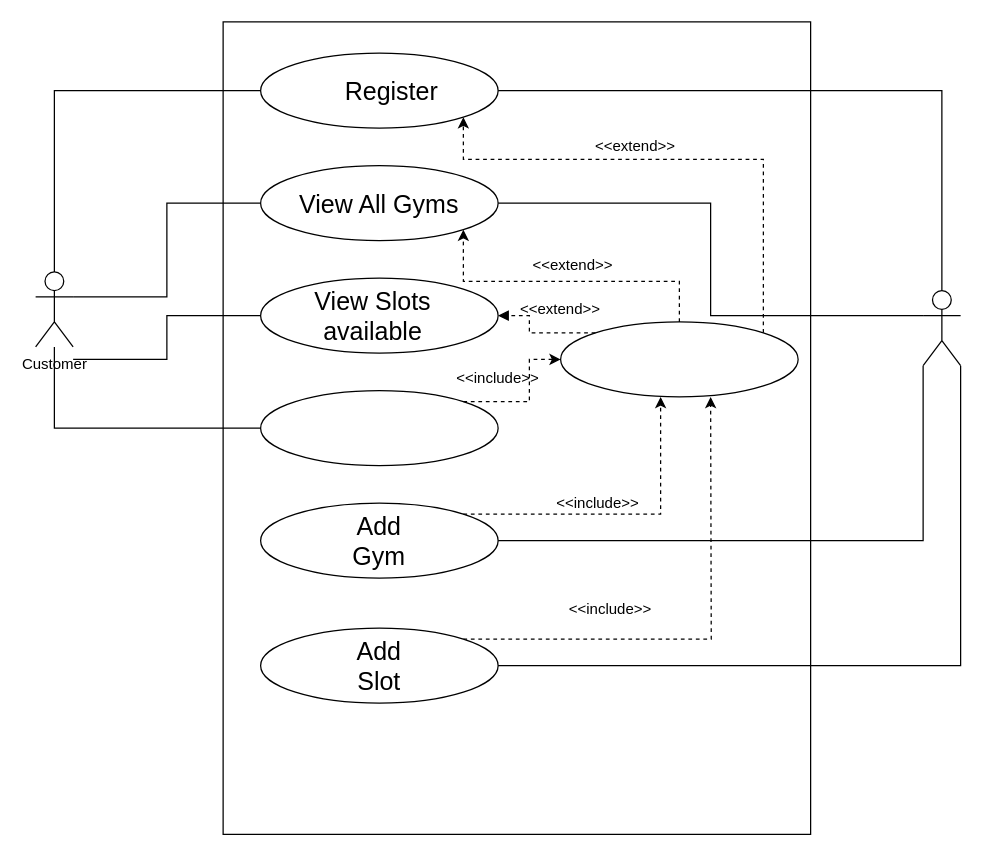
The diagram is 984 pixels wide and 856 high, and some of its shapes have lost their labels. Each missing label, with the centre of its shape:
"Admin" goes at point (941, 327).
"Book Slot" goes at point (378, 427).
"Login" goes at point (678, 359).
